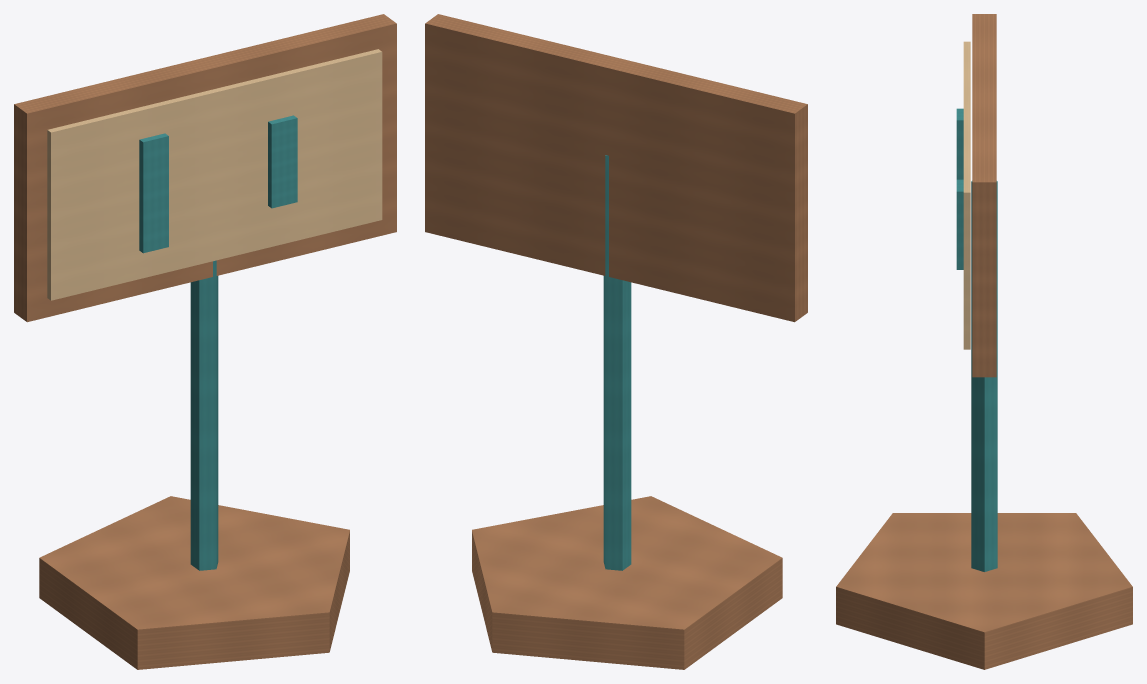
File: atlas100-s092-a11.lod1.glb
The picture shows the model from 3 angles, left to right: view 1: azimuth 30°, elevation 25°; view 2: azimuth 150°, elevation 25°; view 3: azimuth 270°, elevation 25°; orthographic projection. The views are drawn at different scales.
Visible parts, largest first — view 1: atlas100-s092-a11:part-003, atlas100-s092-a11:part-000, atlas100-s092-a11:part-002, atlas100-s092-a11:part-001, atlas100-s092-a11:part-004, atlas100-s092-a11:part-006; view 2: atlas100-s092-a11:part-002, atlas100-s092-a11:part-000, atlas100-s092-a11:part-001; view 3: atlas100-s092-a11:part-000, atlas100-s092-a11:part-002, atlas100-s092-a11:part-001, atlas100-s092-a11:part-003, atlas100-s092-a11:part-006, atlas100-s092-a11:part-004.
Part boxes in pixels (x1,y1,x2,y2): atlas100-s092-a11:part-003: (47, 49, 382, 300); atlas100-s092-a11:part-000: (39, 496, 349, 669); atlas100-s092-a11:part-002: (14, 14, 396, 322); atlas100-s092-a11:part-001: (190, 260, 218, 570); atlas100-s092-a11:part-004: (139, 133, 168, 253); atlas100-s092-a11:part-006: (268, 115, 297, 208); atlas100-s092-a11:part-002: (425, 14, 807, 322); atlas100-s092-a11:part-000: (472, 496, 782, 669); atlas100-s092-a11:part-001: (603, 155, 631, 570); atlas100-s092-a11:part-000: (836, 513, 1132, 669); atlas100-s092-a11:part-002: (972, 14, 996, 377); atlas100-s092-a11:part-001: (971, 181, 997, 571); atlas100-s092-a11:part-003: (963, 41, 970, 349); atlas100-s092-a11:part-006: (956, 179, 963, 269); atlas100-s092-a11:part-004: (956, 108, 963, 179).
Size of the model in its own units: 1.15 by 1.61 by 0.856.
Materials: 3 (3 with a texture image).
